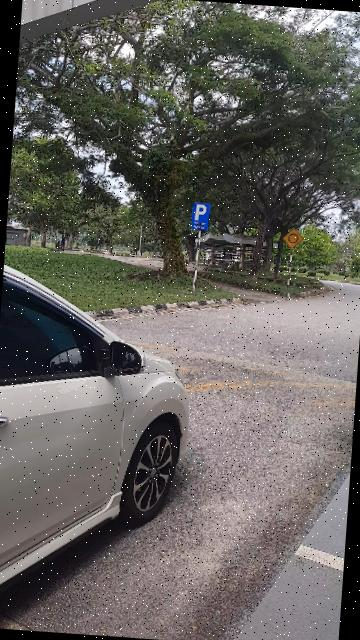car: (1, 260, 207, 640)
